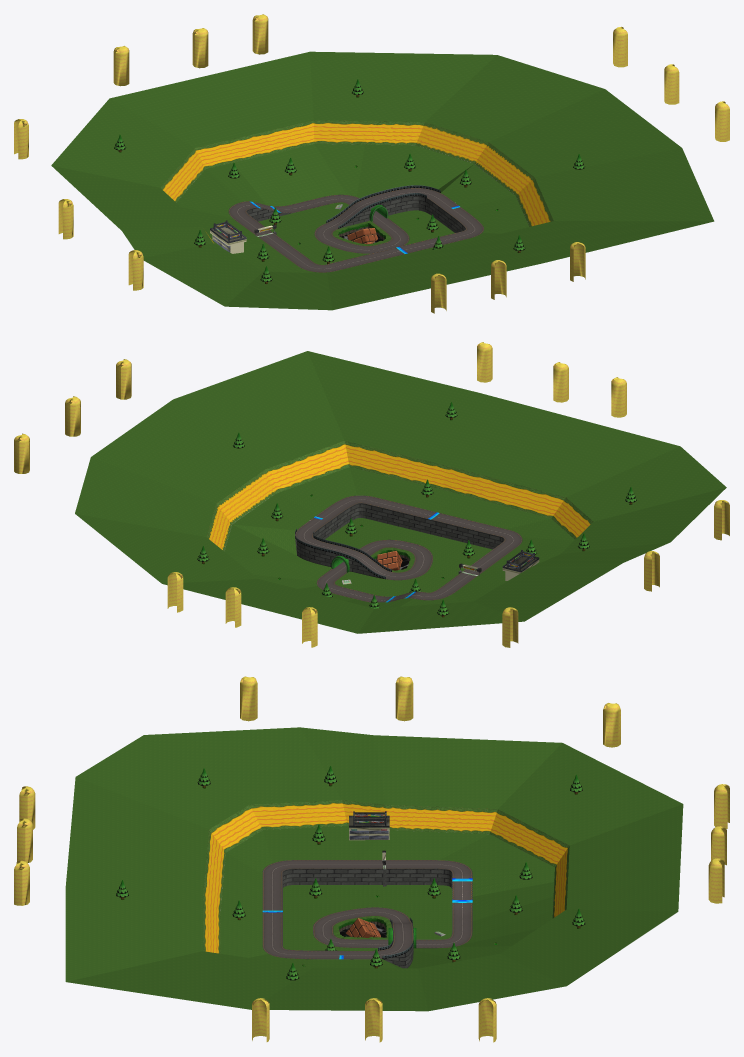
The picture shows the model from 3 angles, top to bottom: view 1: azimuth 30°, elevation 25°; view 2: azimuth 150°, elevation 25°; view 3: azimuth 270°, elevation 25°; orthographic projection. The views are drawn at different scales.
Visible parts, largest first — view 1: grass.001, wall_grass, finger, road, tree, wall, fence; view 2: grass.001, wall_grass, finger, road, wall, tree, fence; view 3: grass.001, wall_grass, road, finger, wall, tree, building.
Boxes of the visible parts, box(x1,y1,x2,y2) form: grass.001: box(51, 51, 714, 310); wall_grass: box(160, 120, 553, 243); finger: box(14, 14, 729, 313); road: box(228, 188, 483, 272); tree: box(114, 79, 584, 283); wall: box(246, 195, 465, 234); fence: box(326, 185, 440, 228); grass.001: box(75, 351, 726, 633); wall_grass: box(206, 441, 593, 551); finger: box(14, 342, 729, 647); road: box(295, 495, 522, 602); wall: box(295, 503, 504, 579); tree: box(197, 402, 636, 617); fence: box(295, 528, 391, 578); grass.001: box(65, 727, 683, 1011); wall_grass: box(203, 800, 569, 953); road: box(262, 860, 472, 959); finger: box(14, 676, 729, 1042); wall: box(283, 868, 452, 968); tree: box(116, 766, 585, 980); building: box(349, 827, 389, 866).
Size of the model in its own units: 152800 by 26878 by 140948.
18 materials, 18 textured.
